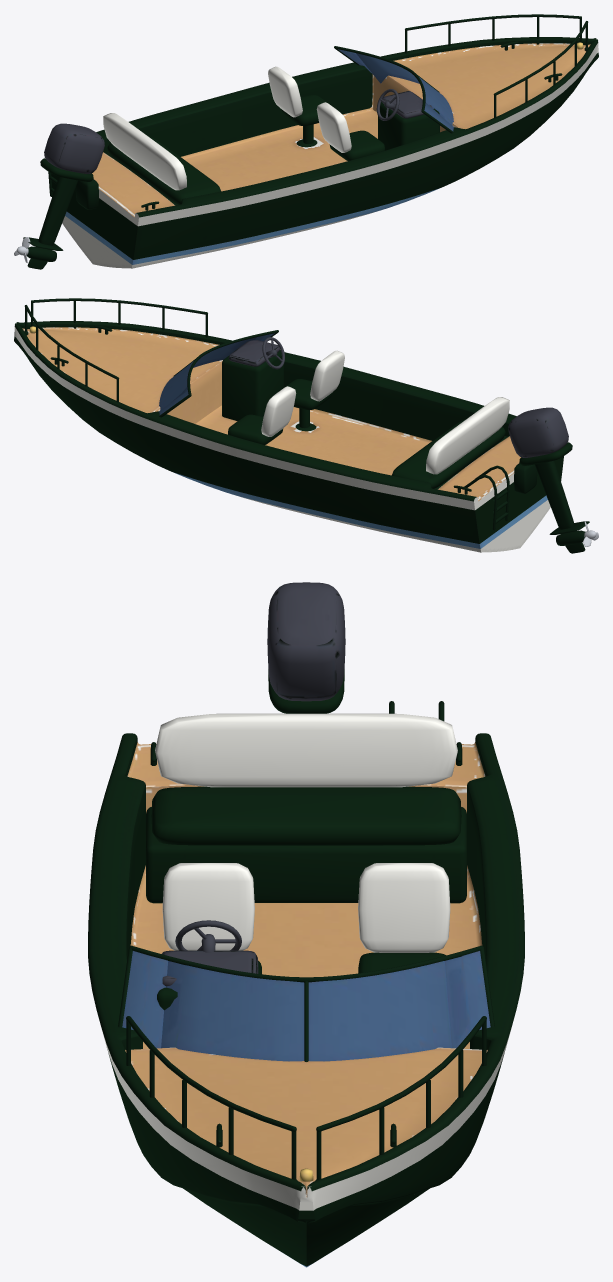
Rendered from lancha-ventura-215-2009.glb.
3 views of the same model, one above another, from view 1: azimuth 30°, elevation 25°; view 2: azimuth 150°, elevation 25°; view 3: azimuth 270°, elevation 25° (orthographic). The views are drawn at different scales.
Visible parts, largest first — view 1: motorboat_body, motorboat_steering_wheel; view 2: motorboat_body, motorboat_steering_wheel; view 3: motorboat_body, motorboat_steering_wheel.
Boxes of the visible parts, left/top/right/bottom form: motorboat_body: left=23, top=14, right=598, bottom=269; motorboat_steering_wheel: left=376, top=89, right=399, bottom=120; motorboat_body: left=14, top=298, right=589, bottom=553; motorboat_steering_wheel: left=262, top=337, right=284, bottom=369; motorboat_body: left=88, top=582, right=524, bottom=1267; motorboat_steering_wheel: left=175, top=920, right=241, bottom=952.
Size of the model in its own units: 6.55 by 1.59 by 2.14.
Materials: 3 (1 with a texture image).
